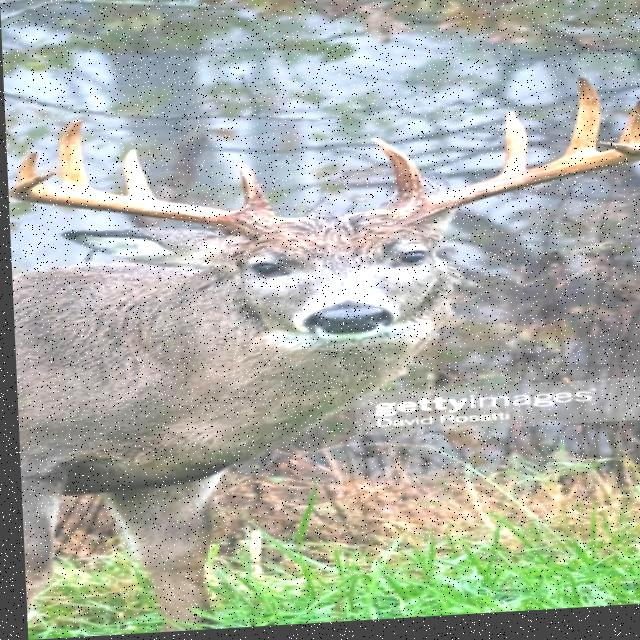L-G1: (368, 142, 425, 207)
L-G2: (498, 117, 526, 180)
L-G3: (560, 83, 599, 165)
L-G4: (605, 108, 640, 159)
L-R: (372, 149, 640, 234)
R-F: (7, 172, 284, 245)
R-G1: (238, 167, 273, 217)
R-G2: (121, 151, 155, 201)
R-G3: (59, 120, 88, 189)
